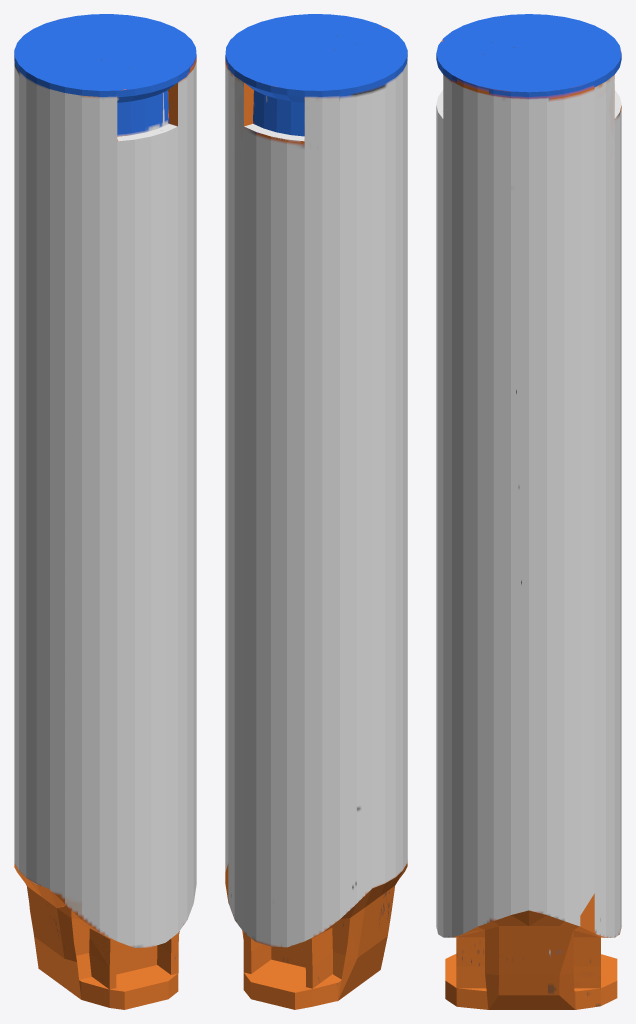
The model's file is inyeccion2Final.fbx.
The picture shows the model from 3 angles, left to right: view 1: azimuth 30°, elevation 25°; view 2: azimuth 150°, elevation 25°; view 3: azimuth 270°, elevation 25°; orthographic projection.
Parts seen in each view (by area): view 1: Cylinder; view 2: Cylinder; view 3: Cylinder.
Part boxes in pixels (x1,y1,x2,y2): Cylinder: (14, 14, 196, 1009); Cylinder: (225, 14, 407, 1009); Cylinder: (436, 14, 621, 1009).
Size of the model in its own units: 103 by 575 by 103.
1 material, 1 textured.
